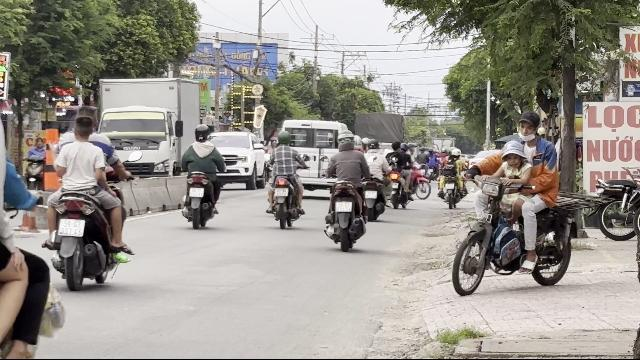helmet: (336, 130, 354, 150), (193, 123, 210, 141), (276, 130, 292, 144)
licenseplate: (58, 219, 86, 237), (336, 202, 352, 212), (190, 188, 204, 196), (274, 188, 288, 196)
motorcyclist: (446, 109, 586, 280), (40, 109, 132, 290), (322, 130, 368, 250), (179, 124, 225, 228), (262, 128, 306, 228)
nohelmet: (498, 139, 528, 173), (517, 110, 541, 140), (71, 116, 95, 144), (78, 107, 99, 129)
